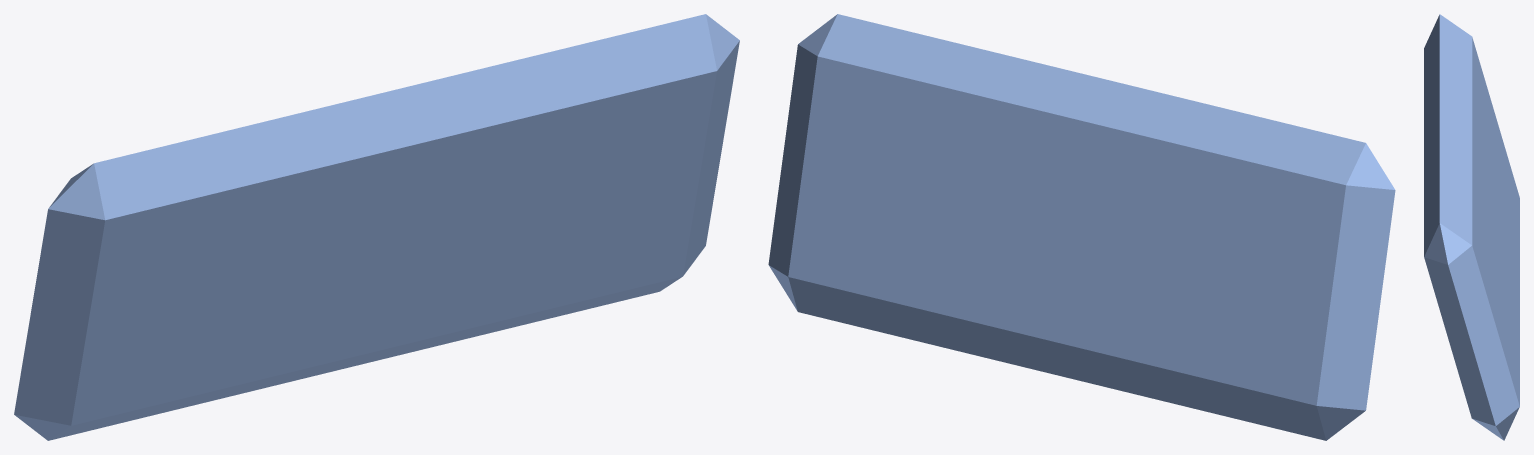
File: pillowBlueLong.gltf
3 views of the same model, side by side, from view 1: azimuth 30°, elevation 25°; view 2: azimuth 150°, elevation 25°; view 3: azimuth 270°, elevation 25° (orthographic). The views are drawn at different scales.
Visible parts, largest first — view 1: pillowBlueLong; view 2: pillowBlueLong; view 3: pillowBlueLong.
Part boxes in pixels (x1=…): pillowBlueLong: x1=14, y1=14, x2=739, y2=440; pillowBlueLong: x1=768, y1=14, x2=1395, y2=440; pillowBlueLong: x1=1424, y1=14, x2=1519, y2=440.
Bounding box in the file's own units: 5.17 × 2.22 × 0.8848.
